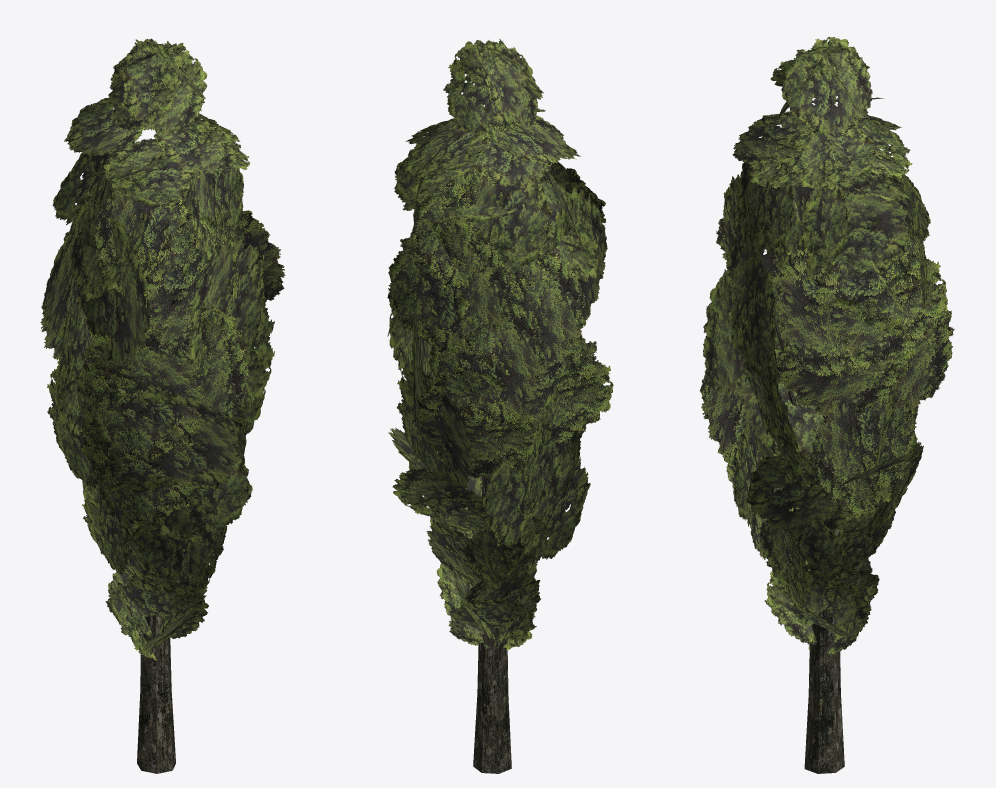
File: tree3.gltf
3 renders of one model, left to right at view 1: azimuth 30°, elevation 25°; view 2: azimuth 150°, elevation 25°; view 3: azimuth 270°, elevation 25°, orthographic.
Visible parts, largest first — view 1: tree3_new; view 2: tree3_new; view 3: tree3_new.
Part boxes in pixels (<box>): tree3_new: <box>40,38,285,773</box>; tree3_new: <box>387,39,613,773</box>; tree3_new: <box>700,37,954,773</box>.
Size of the model in its own units: 24.4 by 64.9 by 24.4.
2 materials, 2 textured.
